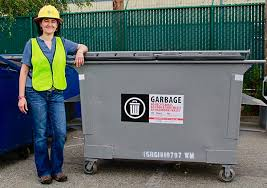Dumpster: (68, 48, 266, 186)
Person: (14, 4, 85, 185)
